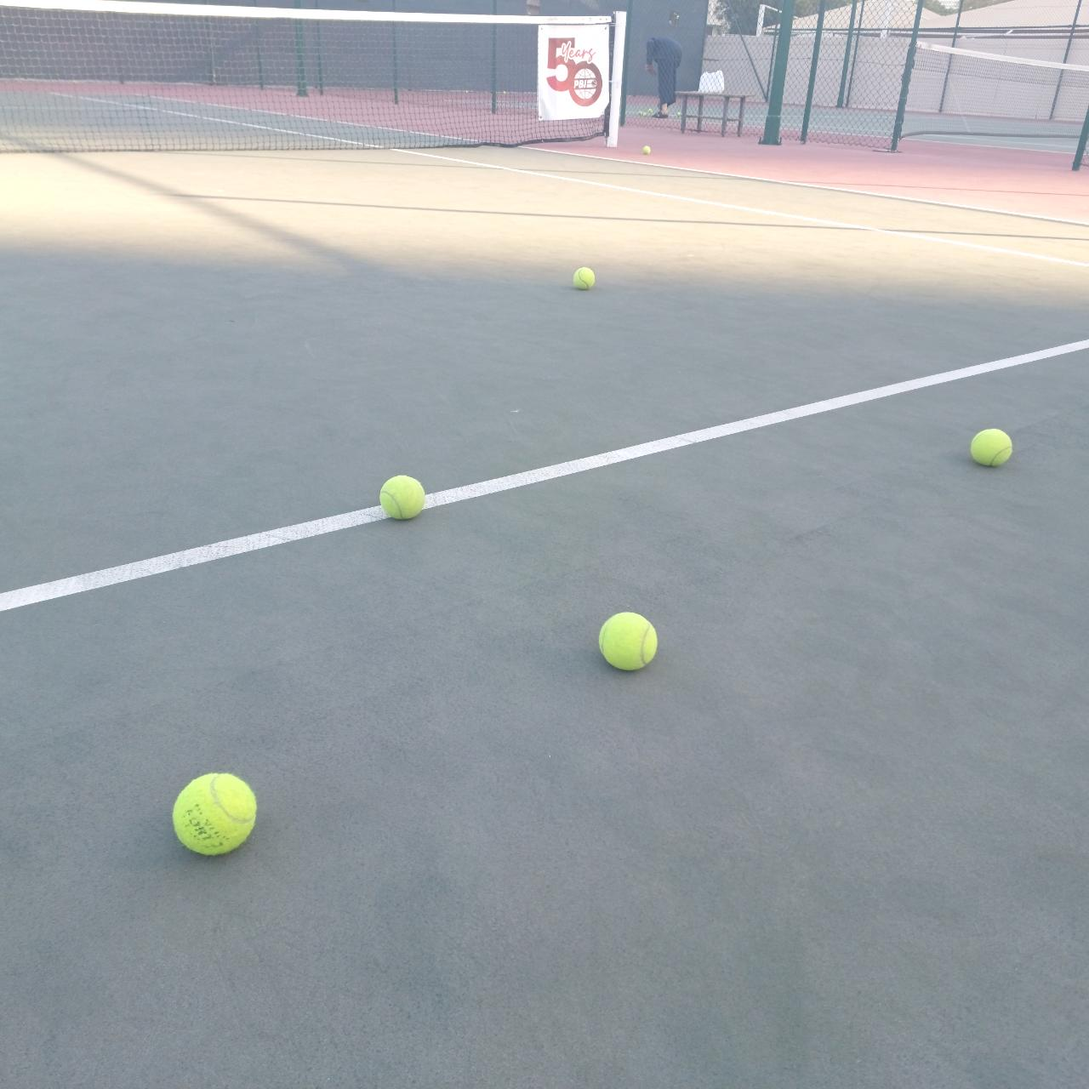tennis-ball: (170, 769, 258, 857), (596, 608, 659, 671), (377, 471, 425, 521), (967, 425, 1012, 467), (573, 267, 595, 290), (642, 145, 651, 154)
